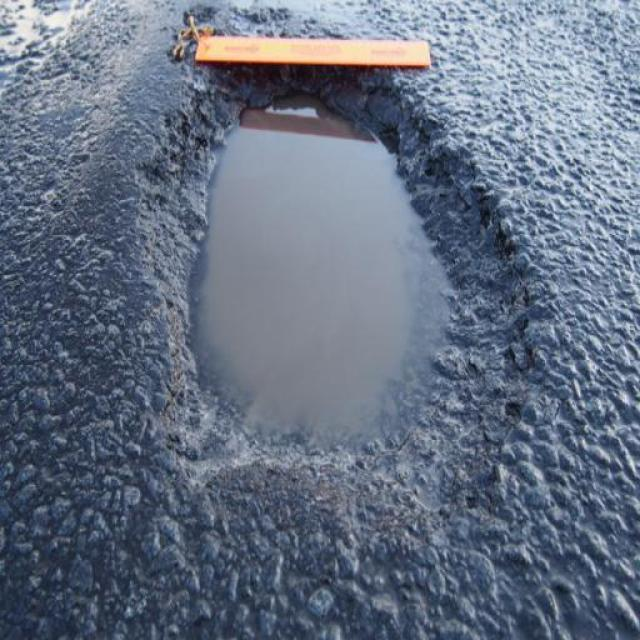puddle: (161, 94, 479, 465)
